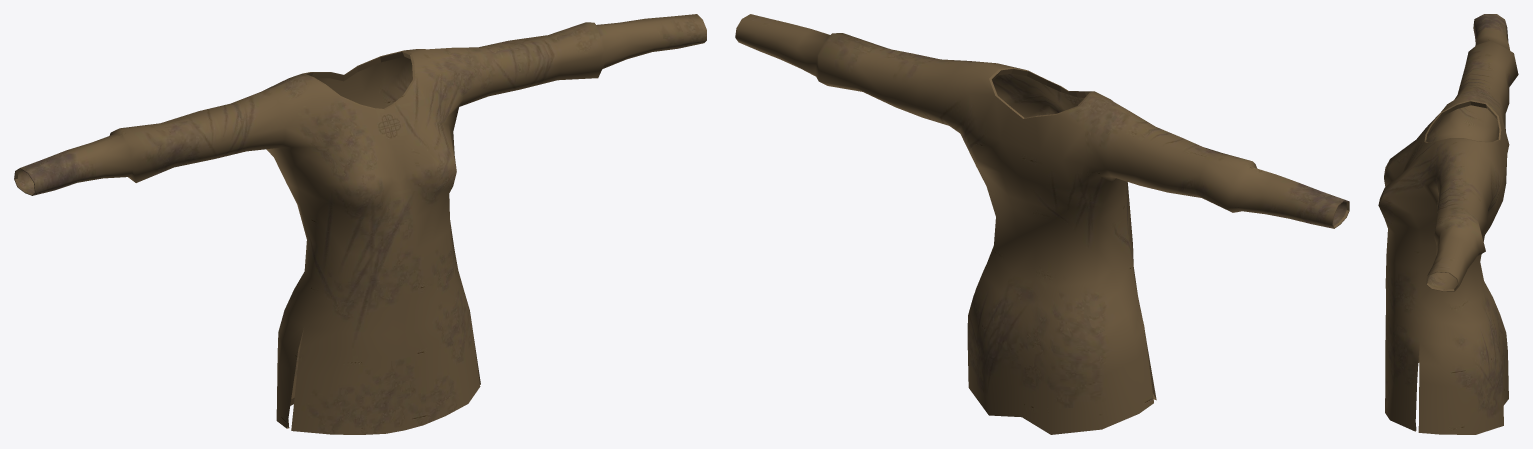
The model's file is top_1.glb.
3 views of the same model, side by side, from view 1: azimuth 30°, elevation 25°; view 2: azimuth 150°, elevation 25°; view 3: azimuth 270°, elevation 25° (orthographic). The views are drawn at different scales.
Parts seen in each view (by area): view 1: Top; view 2: Top; view 3: Top.
Part boxes in pixels (x1,y1,x2,y2): Top: [14, 14, 706, 434]; Top: [735, 14, 1349, 434]; Top: [1378, 14, 1518, 434].
Size of the model in its own units: 2 by 1.01 by 0.4343.
Materials: 1 (1 with a texture image).
